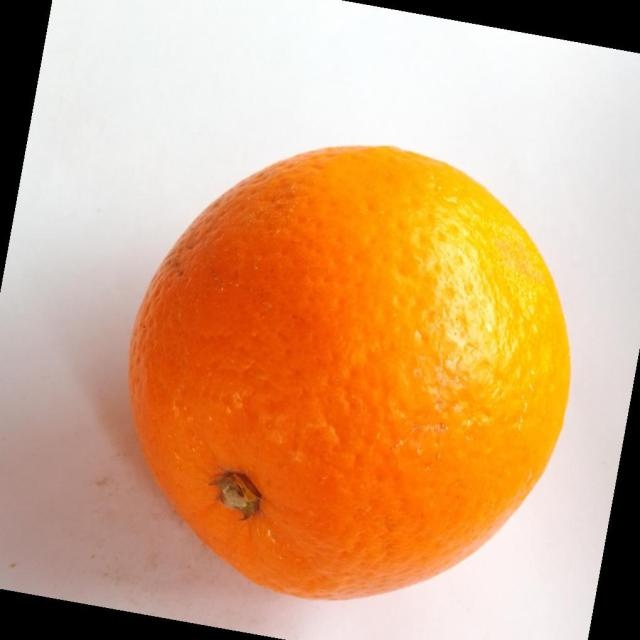agrume: (126, 143, 572, 601)
